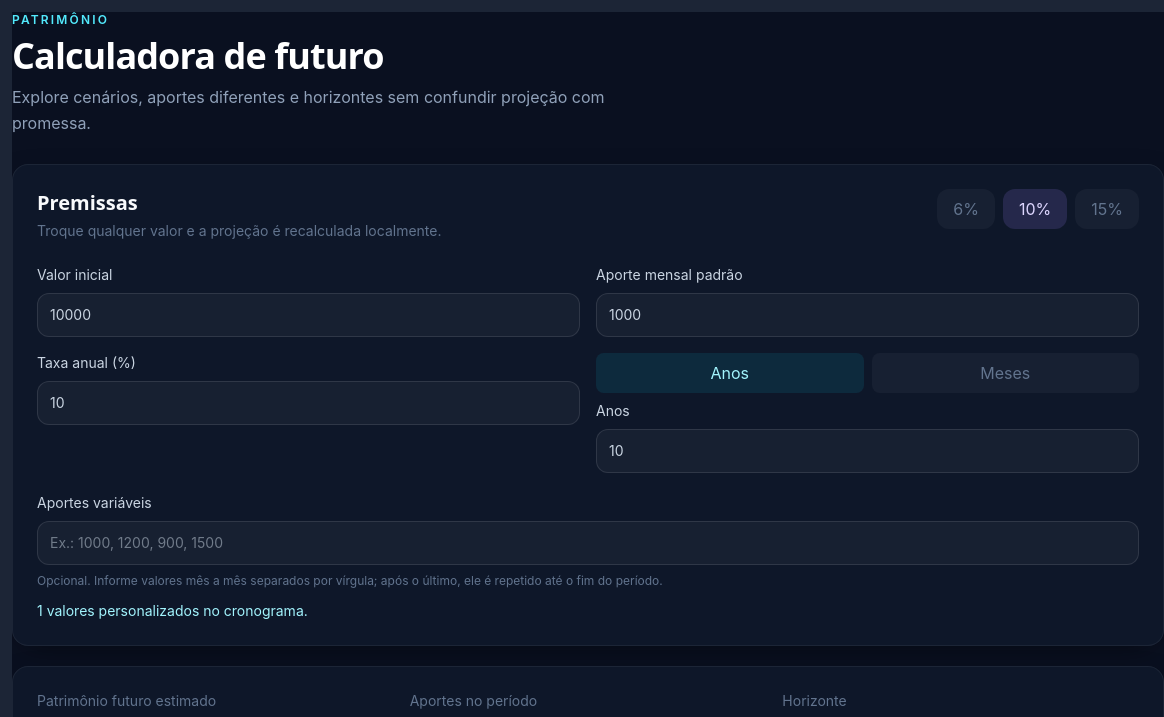
switches duration between years and months and accepts a variable contribution schedule
Click the button "Meses": point(1005, 373) [872,353,1139,393]
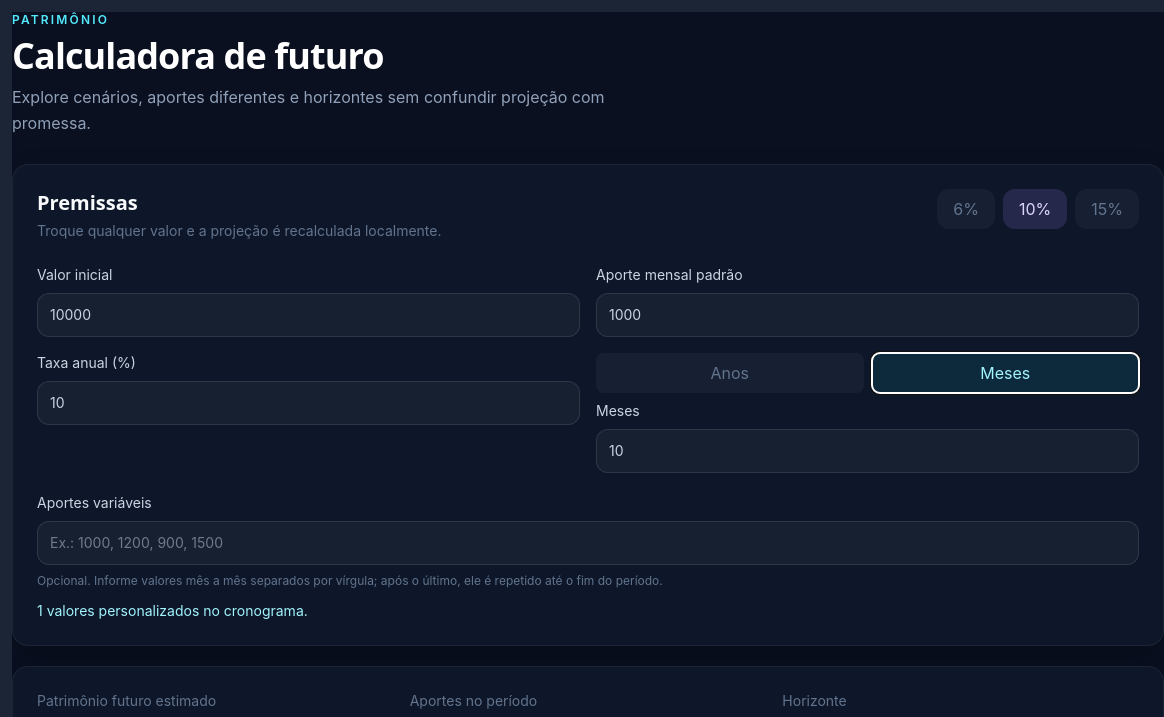
expect the number field labelled "Meses" is shown: met, box [596,429,1139,473]
expect the button "Meses" is pressed: met, box [872,353,1139,393]
In the field labelled "Aportes variáveis": point(588, 543) [37,521,1139,565], type "100, 200, 300"
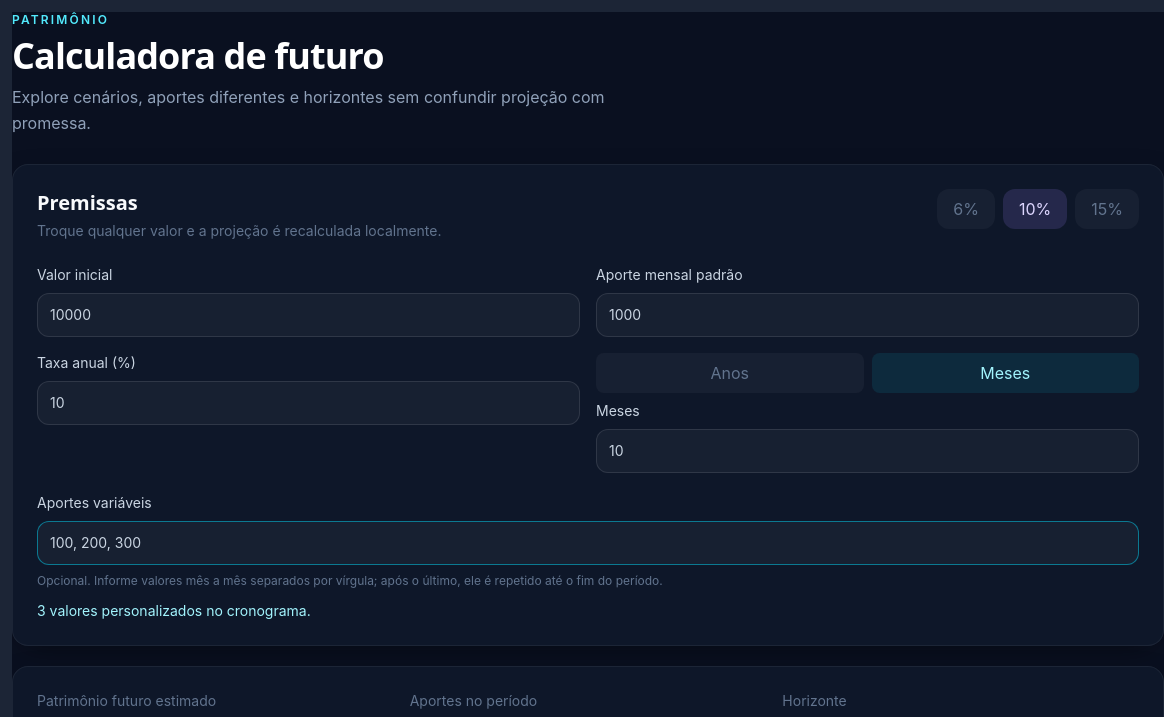
expect the text "3 valores personalizados no cronograma." is shown: met, box [37,602,311,619]
